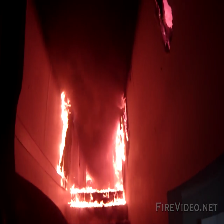fire_h: (112, 94, 129, 179), (57, 91, 70, 178), (69, 181, 124, 194), (69, 195, 126, 207), (163, 1, 172, 27), (85, 168, 93, 182)
